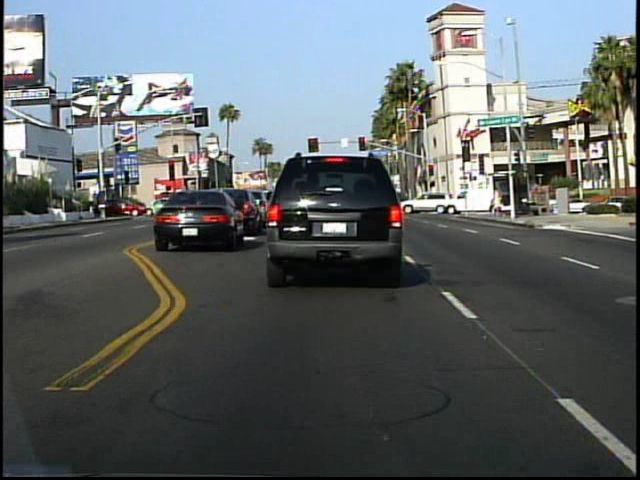person: (489, 184, 505, 220)
